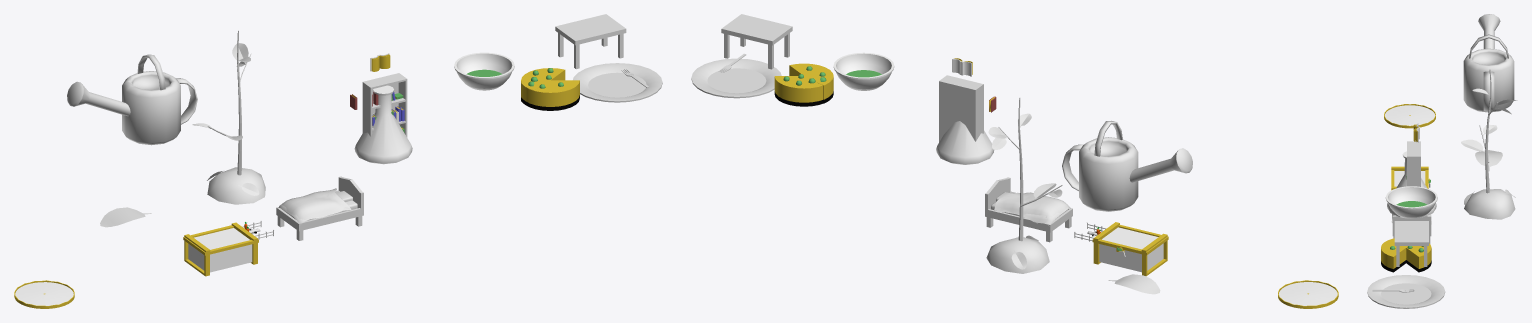
Rendered from Character Items.fbx.
3 views of the same model, side by side, from view 1: azimuth 30°, elevation 25°; view 2: azimuth 150°, elevation 25°; view 3: azimuth 270°, elevation 25° (orthographic). The views are drawn at different scales.
Visible parts, largest first — view 1: water can, plate, Flask, cheesecake, table, mixing bowl, dirt, bookself, bed, crate, crate_top, lilypad (+3 smaller); view 2: water can, plate, bookself, cheesecake, table, mixing bowl, Flask, dirt, crate_top, crate, lilypad, bed (+4 smaller); view 3: water can, plate, mixing bowl, dirt, cheesecake, table, lilypad, bookself, sapling, crate_top, leaves, Plane (+5 smaller).
Boxes of the visible parts, x1,y1,x2,y2 form: water can: [67, 54, 197, 145]; plate: [573, 63, 662, 102]; Flask: [354, 85, 412, 164]; cheesecake: [521, 68, 579, 110]; table: [555, 14, 626, 69]; mixing bowl: [454, 52, 514, 90]; dirt: [207, 167, 265, 204]; bookself: [362, 73, 407, 137]; bed: [276, 176, 363, 240]; crate: [184, 241, 257, 276]; crate_top: [183, 222, 258, 255]; lilypad: [14, 280, 74, 308]; water can: [1062, 121, 1192, 211]; plate: [691, 58, 781, 98]; bookself: [939, 75, 983, 142]; cheesecake: [774, 63, 833, 106]; table: [721, 14, 792, 69]; mixing bowl: [833, 52, 894, 90]; Flask: [936, 121, 994, 164]; dirt: [986, 237, 1049, 273]; crate_top: [1092, 222, 1168, 255]; crate: [1093, 240, 1167, 276]; lilypad: [1278, 280, 1338, 308]; bed: [985, 177, 1072, 242]; water can: [1463, 14, 1514, 112]; plate: [1367, 275, 1445, 308]; mixing bowl: [1385, 186, 1437, 218]; dirt: [1464, 189, 1515, 219]; cheesecake: [1381, 238, 1431, 272]; table: [1394, 221, 1428, 266]; lilypad: [1384, 104, 1435, 128]; bookself: [1407, 141, 1420, 186]; sapling: [1479, 69, 1497, 193]; crate_top: [1391, 166, 1430, 190]; leaves: [1461, 88, 1517, 152]; Plane: [1475, 150, 1502, 171].
Bounding box in the file's own units: 24.93 × 6.82 × 5.93.
